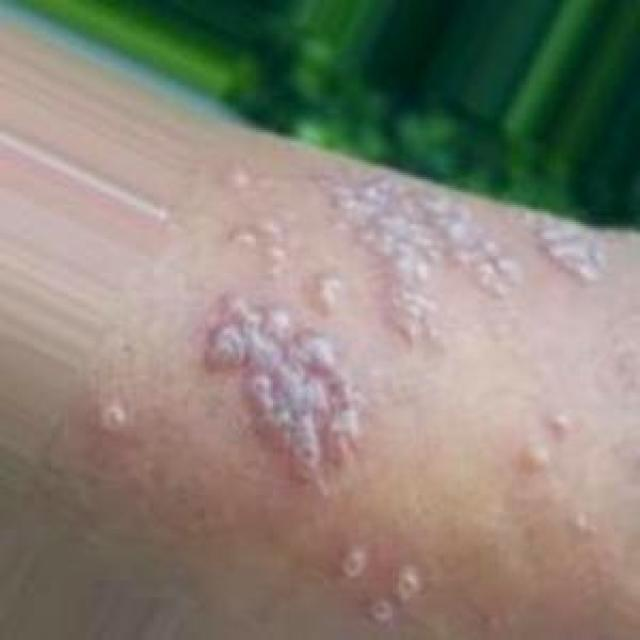Shingles: (227, 149, 521, 343), (205, 300, 367, 487), (519, 206, 608, 292), (340, 543, 421, 625)
